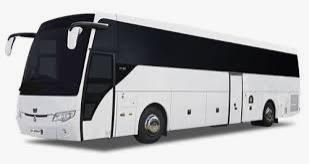bus: (6, 12, 301, 145)
